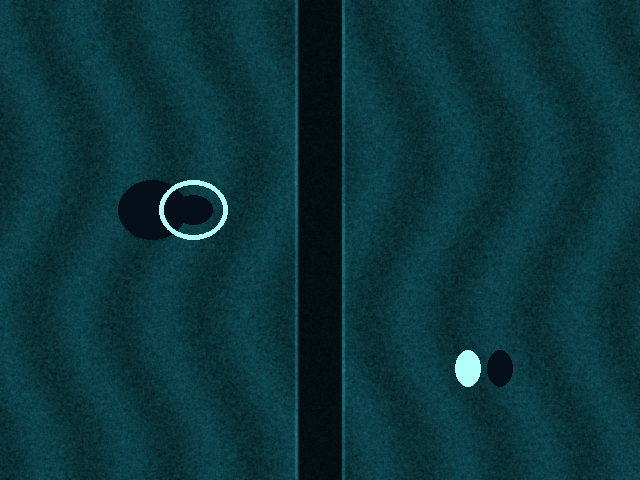Glass Debris: (455, 350, 480, 386)
Rubber Debris: (159, 180, 227, 239)
